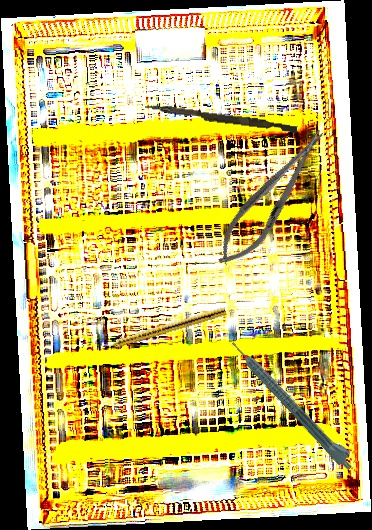Handpiece: (228, 334, 360, 473), (100, 304, 227, 353)
Needle Holder: (206, 119, 338, 277)
Pusher: (143, 103, 299, 134)
